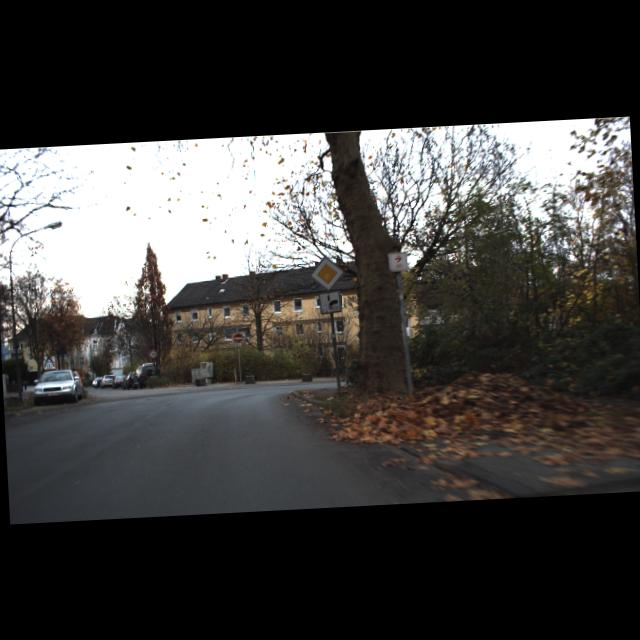other: (308, 255, 345, 292), (232, 332, 244, 343)
prohibitory: (148, 349, 157, 358)
